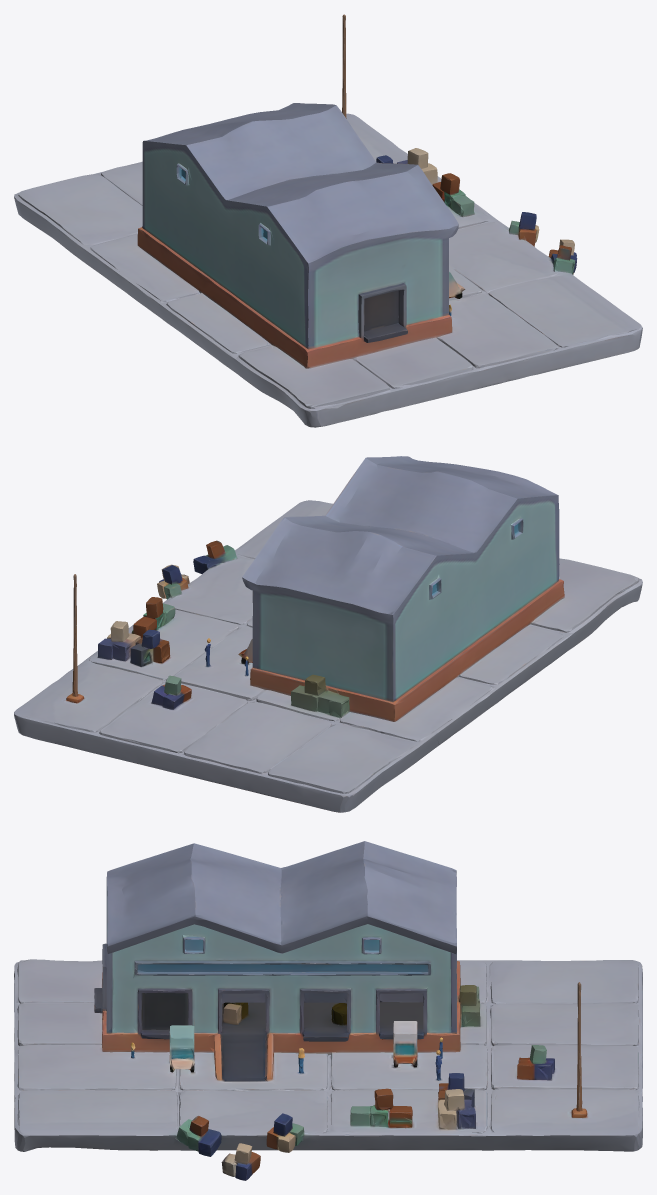
Rendered from logisticsHub.fbx.
3 views of the same model, one above another, from view 1: azimuth 30°, elevation 25°; view 2: azimuth 150°, elevation 25°; view 3: azimuth 270°, elevation 25° (orthographic). The views are drawn at different scales.
Parts seen in each view (by area): view 1: model; view 2: model; view 3: model.
Boxes of the visible parts, x1,y1,x2,y2 form: model: (14, 14, 642, 427); model: (14, 456, 642, 812); model: (14, 841, 642, 1180).
Bounding box in the file's own units: 139 × 58.94 × 189.
1 material, 1 textured.
